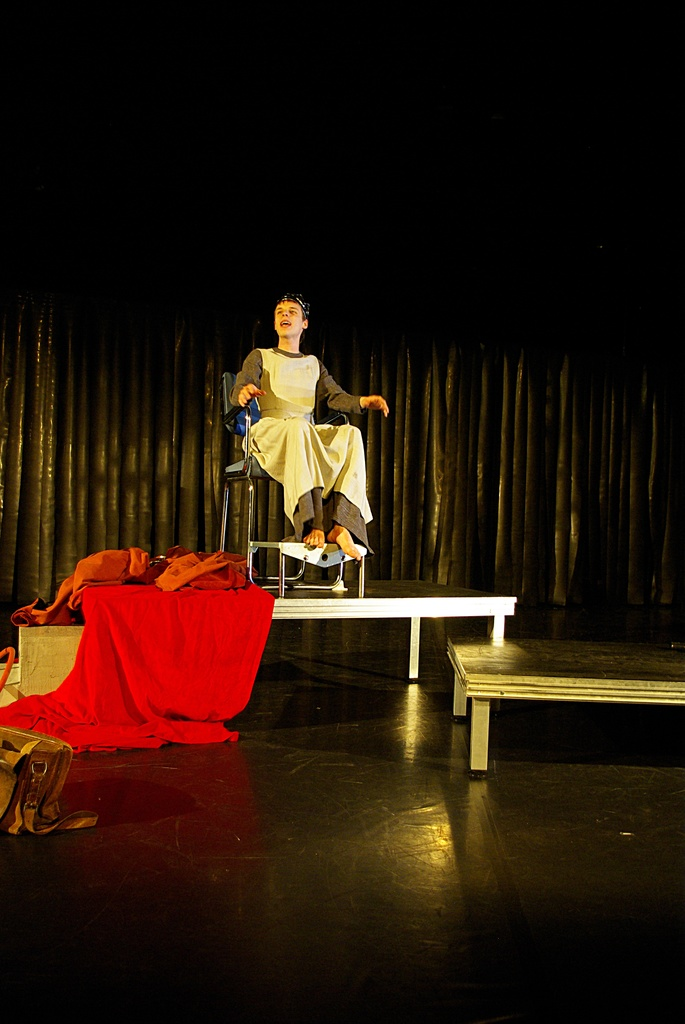Table: (443, 623, 676, 778)
